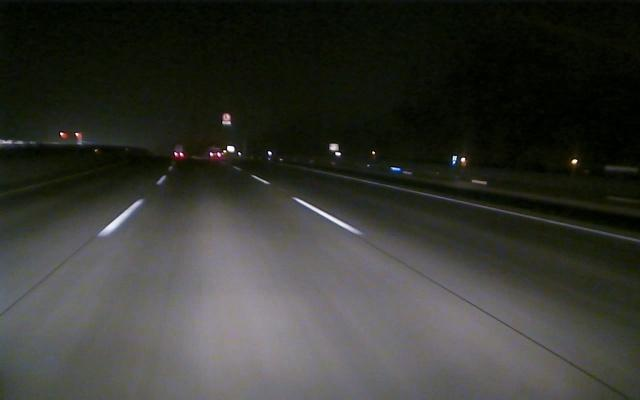lane: (311, 169, 636, 242), (255, 176, 362, 234), (98, 176, 165, 236)
